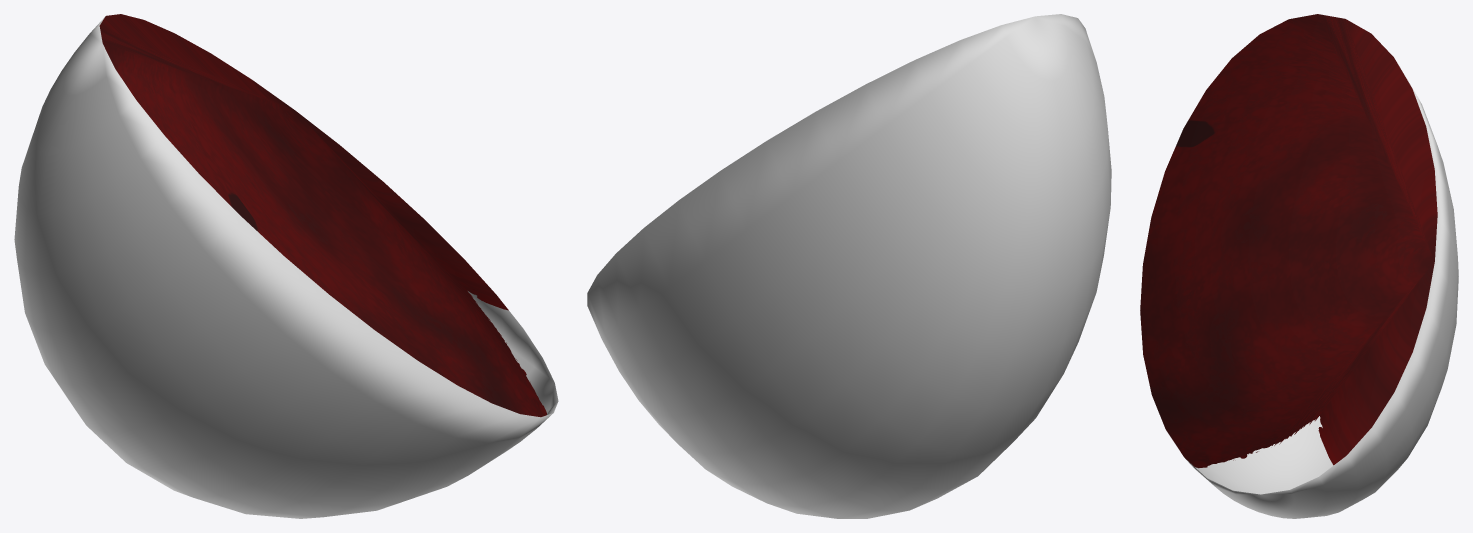
The model's file is AD_Demon_Eye_Right_Ex.fbx.
3 renders of one model, left to right at view 1: azimuth 30°, elevation 25°; view 2: azimuth 150°, elevation 25°; view 3: azimuth 270°, elevation 25°, orthographic. The views are drawn at different scales.
Visible parts, largest first — view 1: D_EyesRight; view 2: D_EyesRight; view 3: D_EyesRight.
Boxes of the visible parts, left/top/right/bottom form: D_EyesRight: left=14, top=14, right=558, bottom=518; D_EyesRight: left=587, top=14, right=1111, bottom=518; D_EyesRight: left=1140, top=14, right=1458, bottom=518.
Size of the model in its own units: 38.22 by 39.05 by 28.04.
